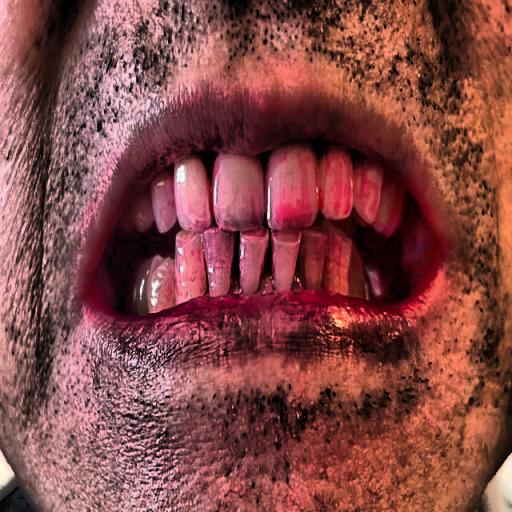Plaque: (129, 148, 413, 317)
